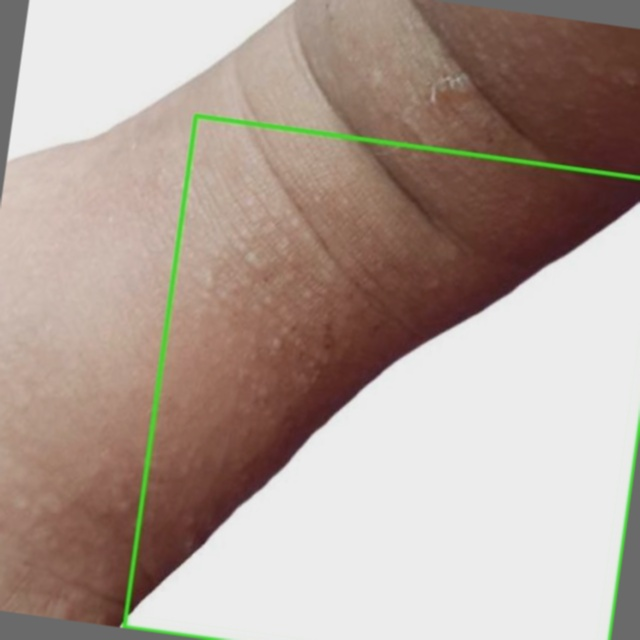Scabies: (124, 115, 639, 639)
